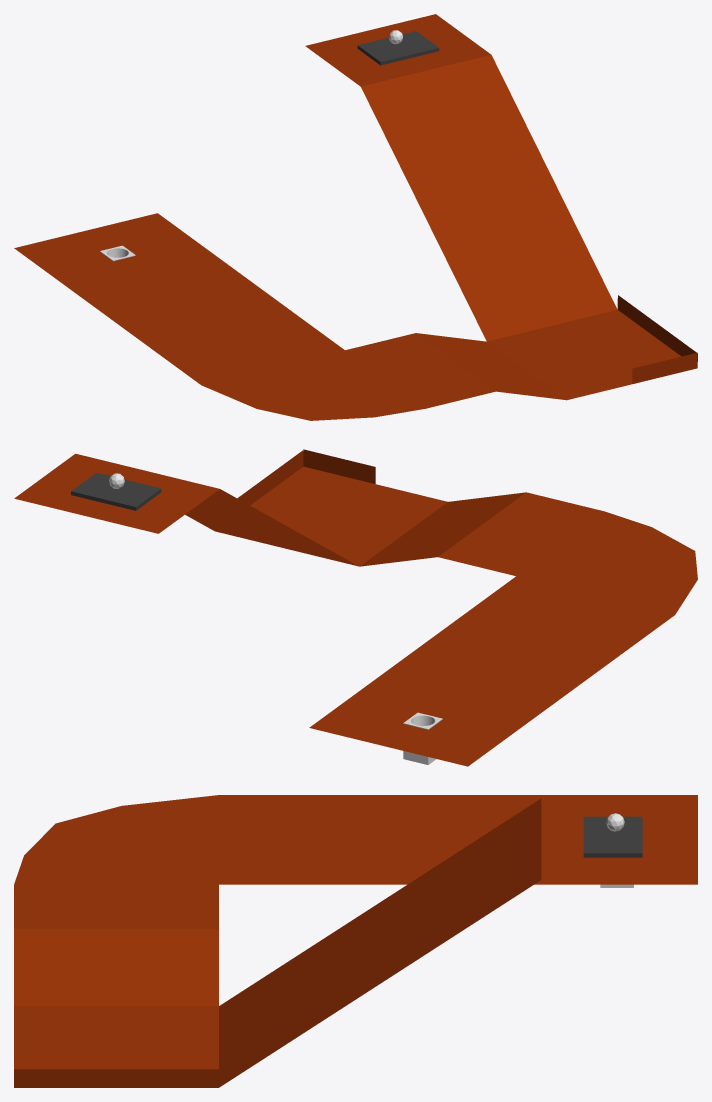
The model's file is boilerplate_level_14.glb.
The picture shows the model from 3 angles, top to bottom: view 1: azimuth 30°, elevation 25°; view 2: azimuth 150°, elevation 25°; view 3: azimuth 270°, elevation 25°; orthographic projection. The views are drawn at different scales.
Visible parts, largest first — view 1: Plane, Start; view 2: Plane, Start, Cup; view 3: Plane, Start.
Part boxes in pixels (box(x1,y1,x2,y2)): Plane: box(14, 14, 697, 420); Start: box(357, 31, 439, 65); Plane: box(14, 449, 697, 766); Start: box(71, 472, 161, 510); Cup: box(403, 712, 442, 764); Plane: box(14, 795, 697, 1087); Start: box(583, 816, 642, 857).
Size of the model in its own units: 55.94 by 24.1 by 62.2.
